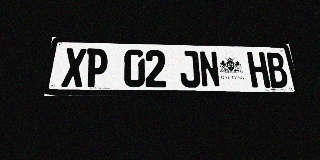0: (124, 49, 145, 87)
2: (145, 50, 166, 87)
B: (265, 52, 289, 88)
H: (247, 52, 271, 88)
J: (179, 50, 201, 87)
N: (198, 51, 221, 88)
P: (84, 48, 108, 87)
X: (61, 48, 87, 87)
